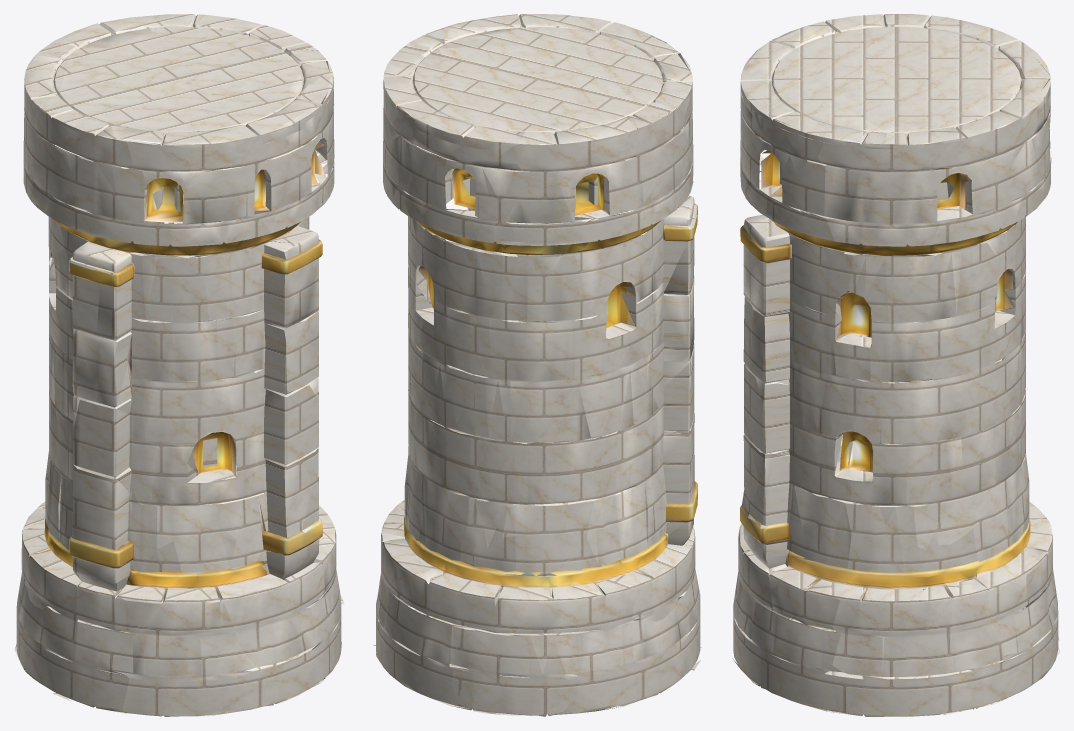
File: HaloPart_GateTowerR_retile.glb
3 views of the same model, side by side, from view 1: azimuth 30°, elevation 25°; view 2: azimuth 150°, elevation 25°; view 3: azimuth 270°, elevation 25° (orthographic).
Visible parts, largest first — view 1: HaloPart_GateTowerR_Stone, HaloPart_GateTowerR_Trim; view 2: HaloPart_GateTowerR_Stone, HaloPart_GateTowerR_Trim; view 3: HaloPart_GateTowerR_Stone, HaloPart_GateTowerR_Trim.
Boxes of the visible parts, x1=… form: HaloPart_GateTowerR_Stone: x1=14, y1=14, x2=344, y2=716; HaloPart_GateTowerR_Trim: x1=36, y1=105, x2=325, y2=588; HaloPart_GateTowerR_Stone: x1=376, y1=14, x2=700, y2=716; HaloPart_GateTowerR_Trim: x1=373, y1=114, x2=701, y2=647; HaloPart_GateTowerR_Stone: x1=732, y1=14, x2=1059, y2=716; HaloPart_GateTowerR_Trim: x1=740, y1=132, x2=1036, y2=596.
Size of the model in its own units: 0.5058 by 0.9796 by 0.5104.
2 materials, 2 textured.
